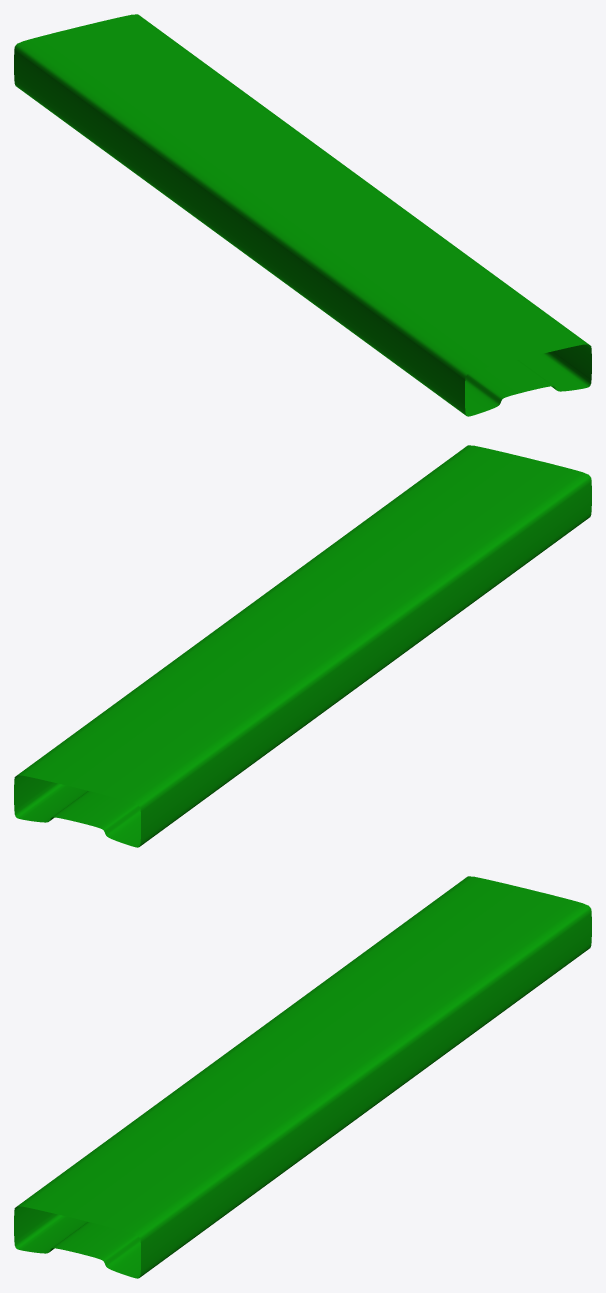
Rendered from ModTrackStraight.fbx.
The picture shows the model from 3 angles, top to bottom: view 1: azimuth 30°, elevation 25°; view 2: azimuth 150°, elevation 25°; view 3: azimuth 330°, elevation 25°; orthographic projection.
Parts seen in each view (by area): view 1: ModRigStraight; view 2: ModRigStraight; view 3: ModRigStraight.
Boxes of the visible parts, x1,y1,x2,y2 form: ModRigStraight: [14, 14, 591, 416]; ModRigStraight: [14, 445, 591, 847]; ModRigStraight: [14, 876, 591, 1278].
Size of the model in its own units: 22.79 by 7.7 by 140.
